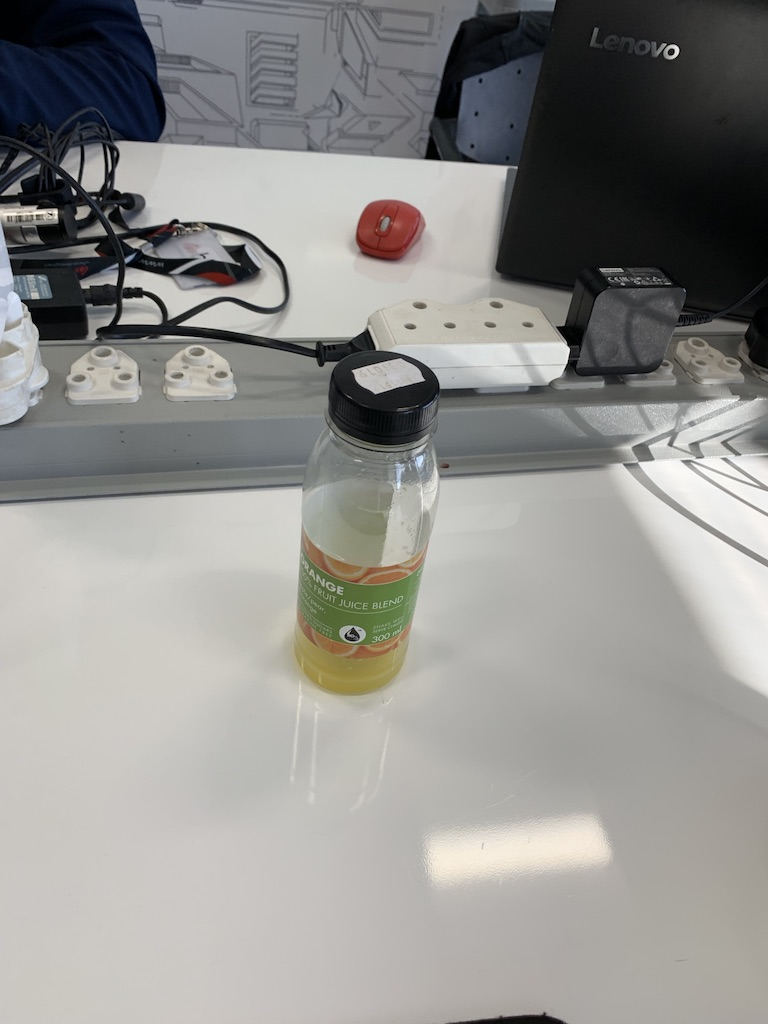bottle: (280, 325, 453, 717)
